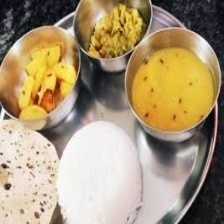sabzi: (81, 2, 147, 58)
